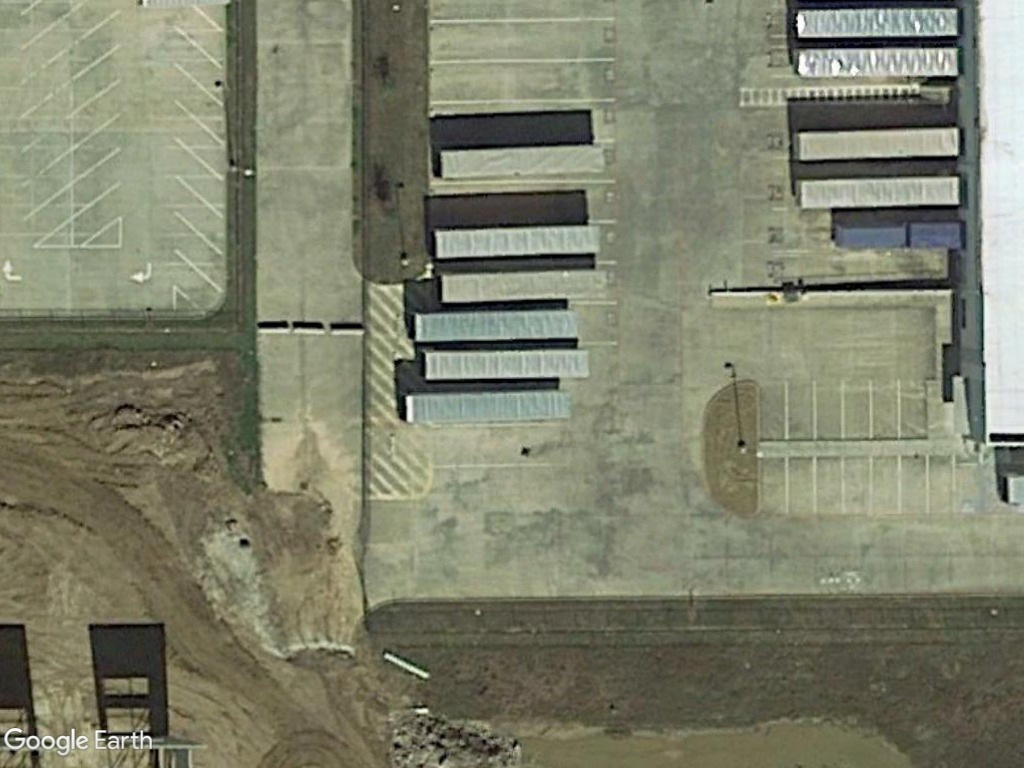longvehicle: (783, 118, 969, 172), (428, 216, 609, 266), (437, 138, 611, 190), (788, 166, 965, 215), (398, 386, 577, 428), (415, 345, 596, 386), (784, 4, 967, 43), (787, 43, 968, 82), (404, 308, 584, 345)
